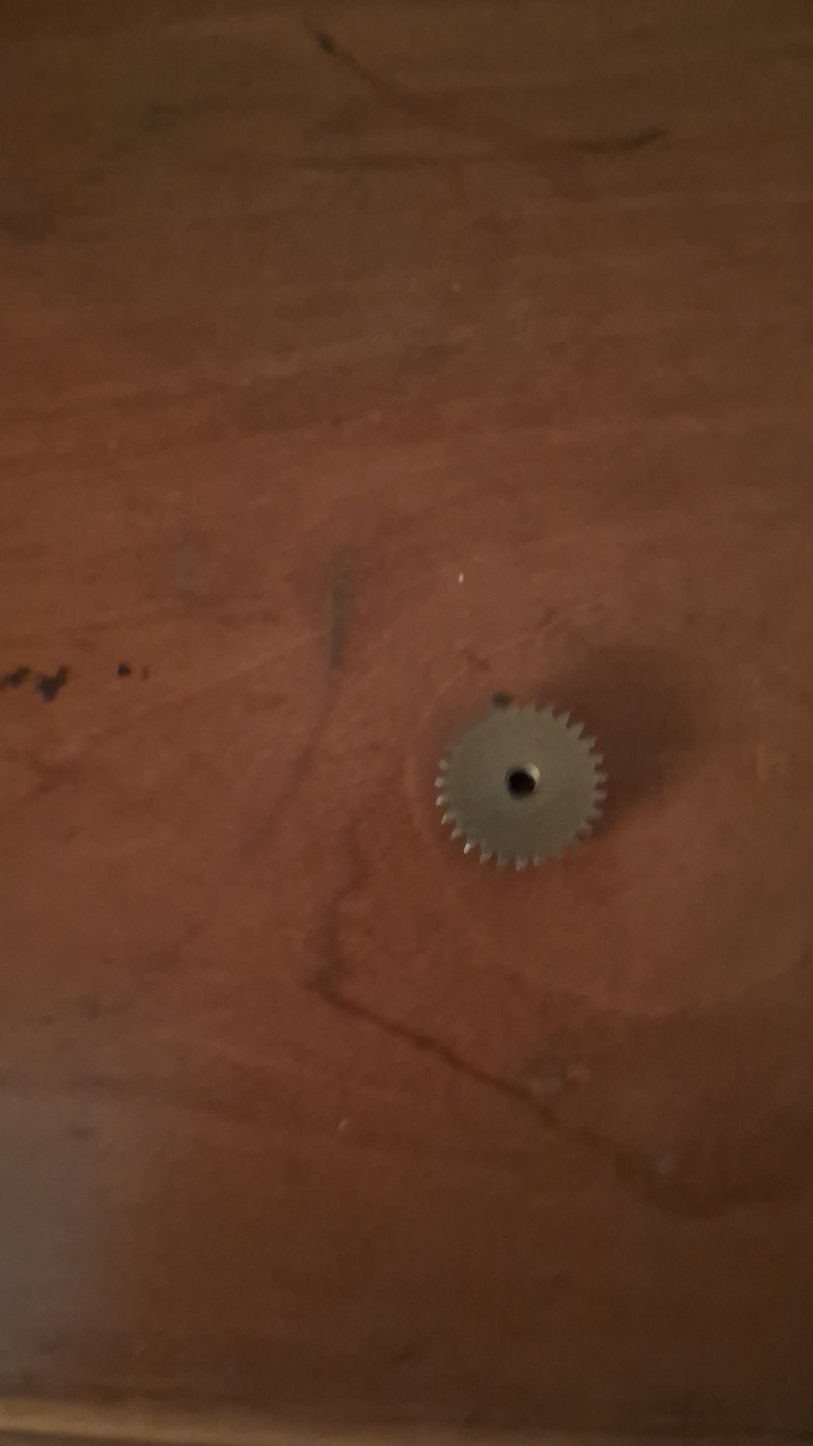spur gear: (437, 704, 606, 869)
